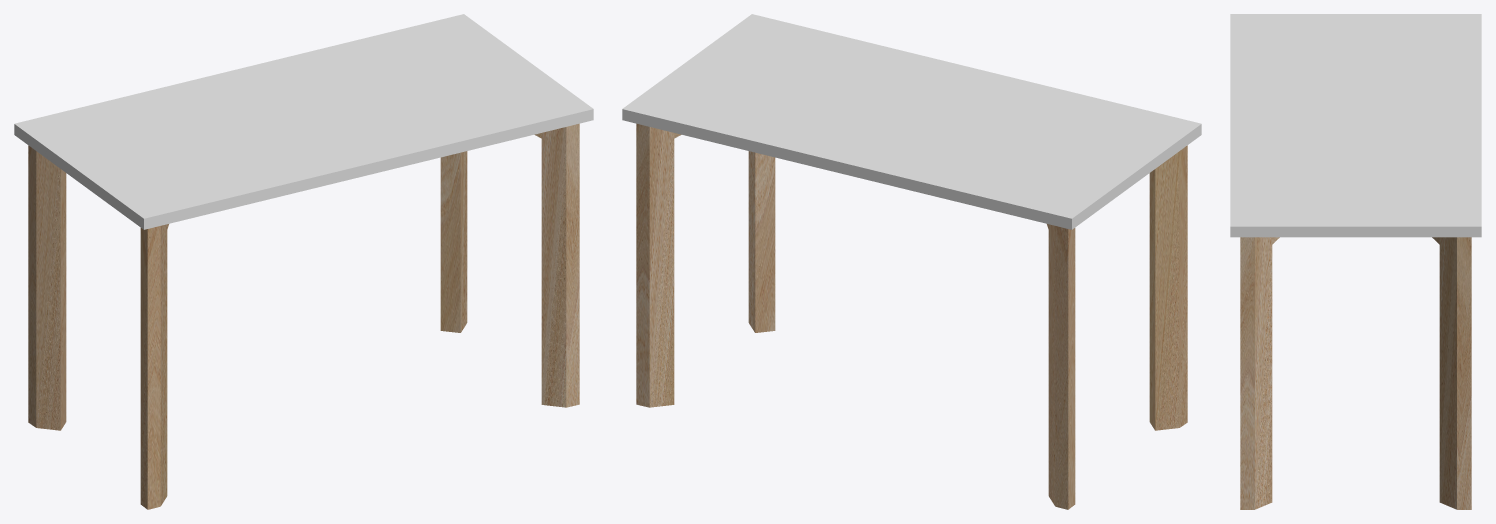
File: 2module.glb
The picture shows the model from 3 angles, left to right: view 1: azimuth 30°, elevation 25°; view 2: azimuth 150°, elevation 25°; view 3: azimuth 270°, elevation 25°; orthographic projection. The views are drawn at different scales.
Parts seen in each view (by area): view 1: 3D desks (2); view 2: 3D desks (2); view 3: 3D desks (2).
Boxes of the visible parts, x1,y1,x2,y2 form: 3D desks (2): (14, 14, 593, 509); 3D desks (2): (622, 14, 1201, 509); 3D desks (2): (1230, 14, 1481, 509).
Bounding box in the file's own units: 11.66 × 7.36 × 5.83.
Materials: 3 (1 with a texture image).
